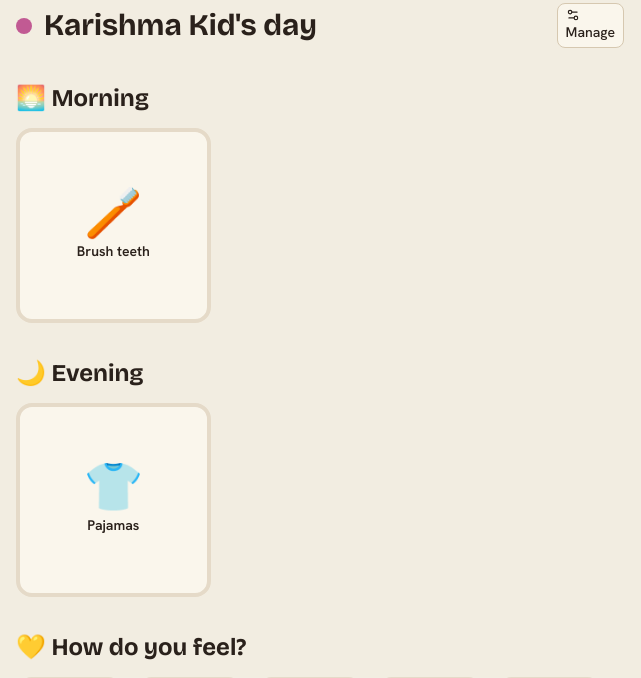
Test: KidsBoard › toggles the Manage panel
Expected: the button "add step" is not shown
Click the button "Manage" at {"x": 590, "y": 26}, box [557,3,624,48]
(page scrolled)
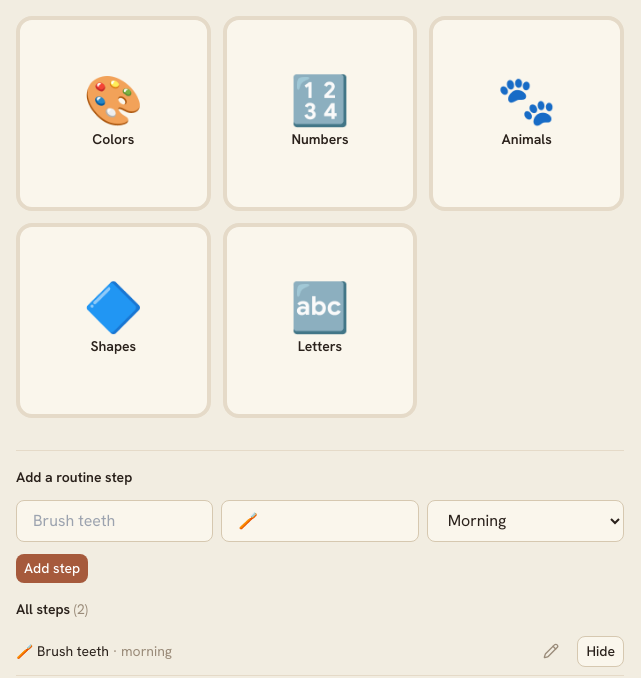
Expected: the button "Add step" is shown, [16,554,88,583]
